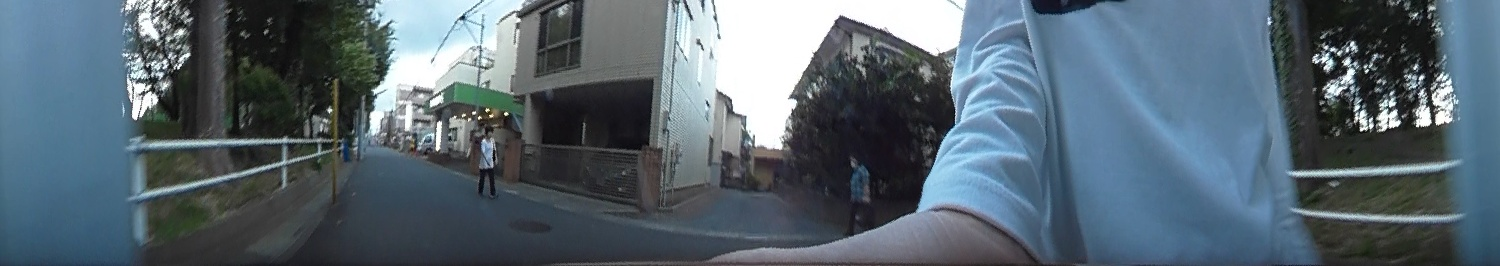person: (842, 149, 873, 231), (474, 124, 501, 194)
